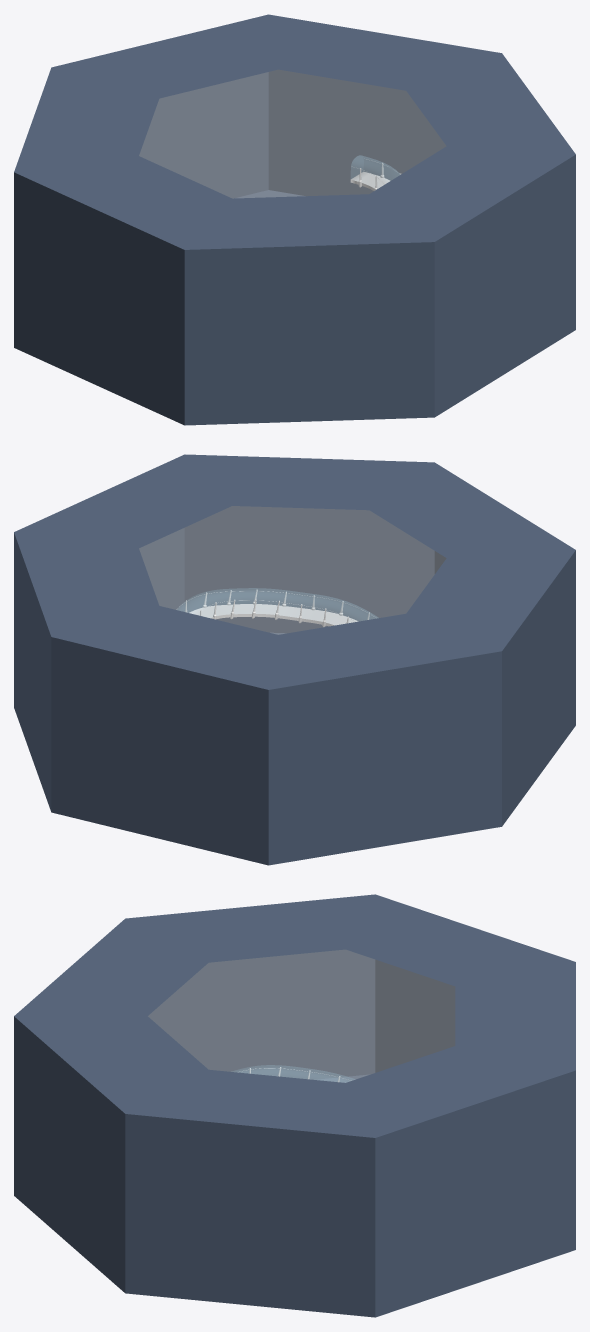
File: BlueLevel.fbx
3 renders of one model, top to bottom at view 1: azimuth 30°, elevation 25°; view 2: azimuth 150°, elevation 25°; view 3: azimuth 270°, elevation 25°, orthographic. The views are drawn at different scales.
Parts seen in each view (by area): view 1: OuterWalls.004, SpiralBCollapsed; view 2: OuterWalls.004, SpiralBCollapsed; view 3: OuterWalls.004, SpiralBCollapsed.
Part boxes in pixels (x1,y1,x2,y2): OuterWalls.004: (14,14,575,425); SpiralBCollapsed: (350,155,401,190); OuterWalls.004: (14,454,575,865); SpiralBCollapsed: (176,588,377,627); OuterWalls.004: (14,894,575,1317); SpiralBCollapsed: (231,1065,354,1082).
Bounding box in the file's own units: 34076 × 11710 × 33221.
